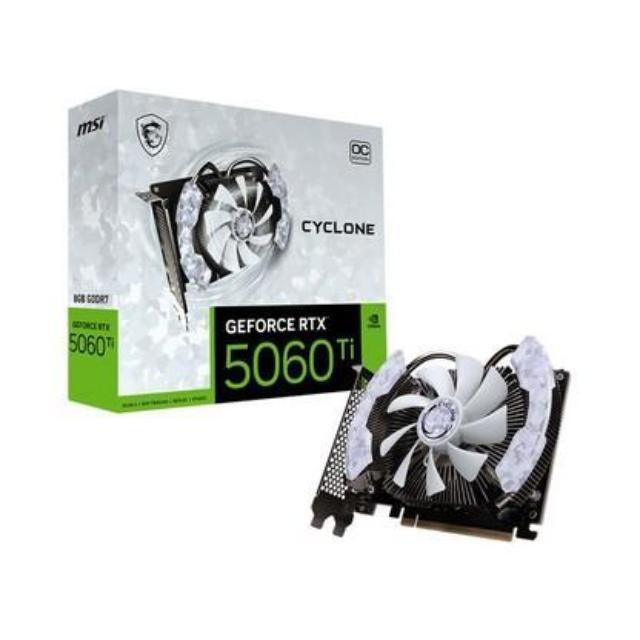GPU: (298, 330, 580, 547)
